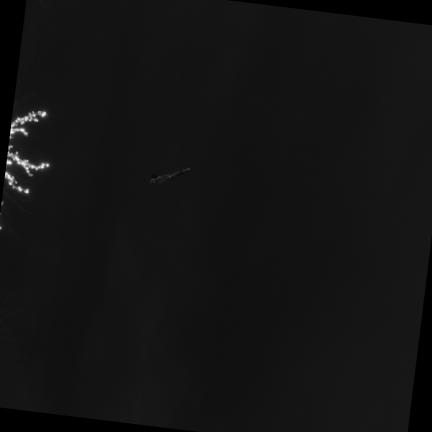Shahed: (150, 168, 188, 183)
